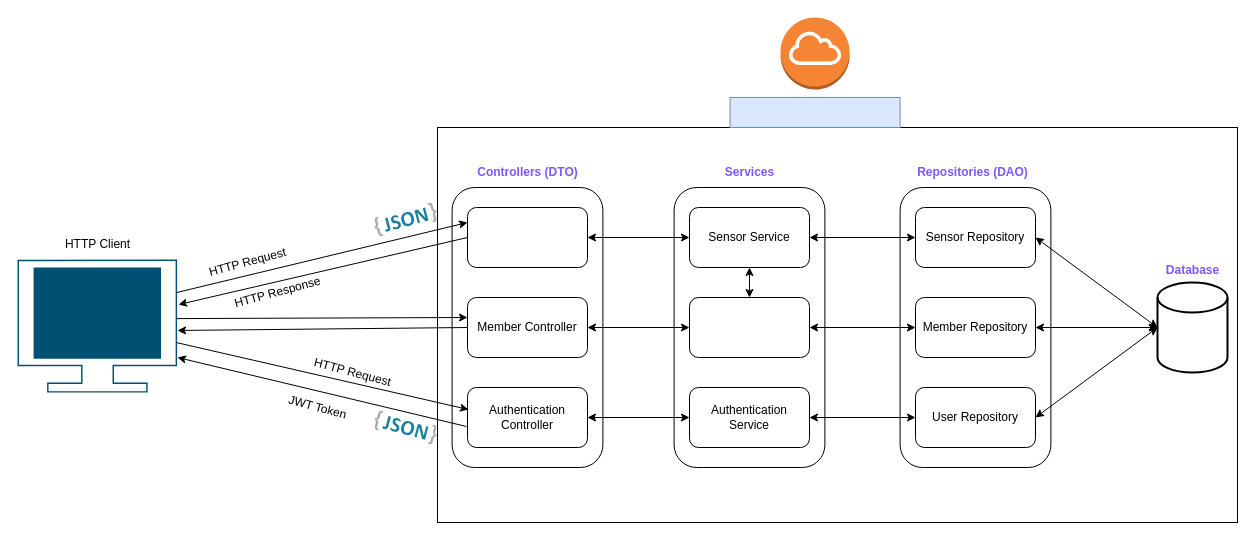
Some shapes in this 1255 by 540 pixel diagram are drawn without their labels. The shapes that lost their labels are listed below. From the top down, each one's box as (x1, y1, x2, y2) in pixels, then its label:
(729, 96, 900, 128): My Siganls Cloud API
(466, 206, 588, 268): Sensor Controller
(688, 296, 810, 358): Member Service
